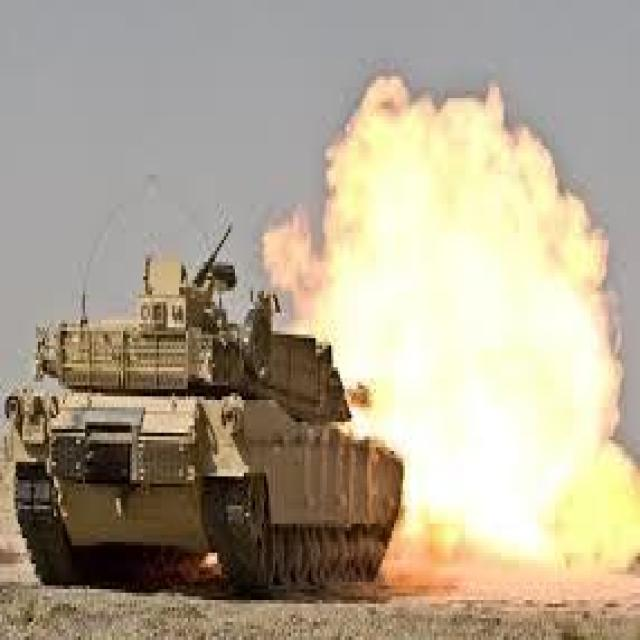Tanks: (11, 260, 407, 595)
